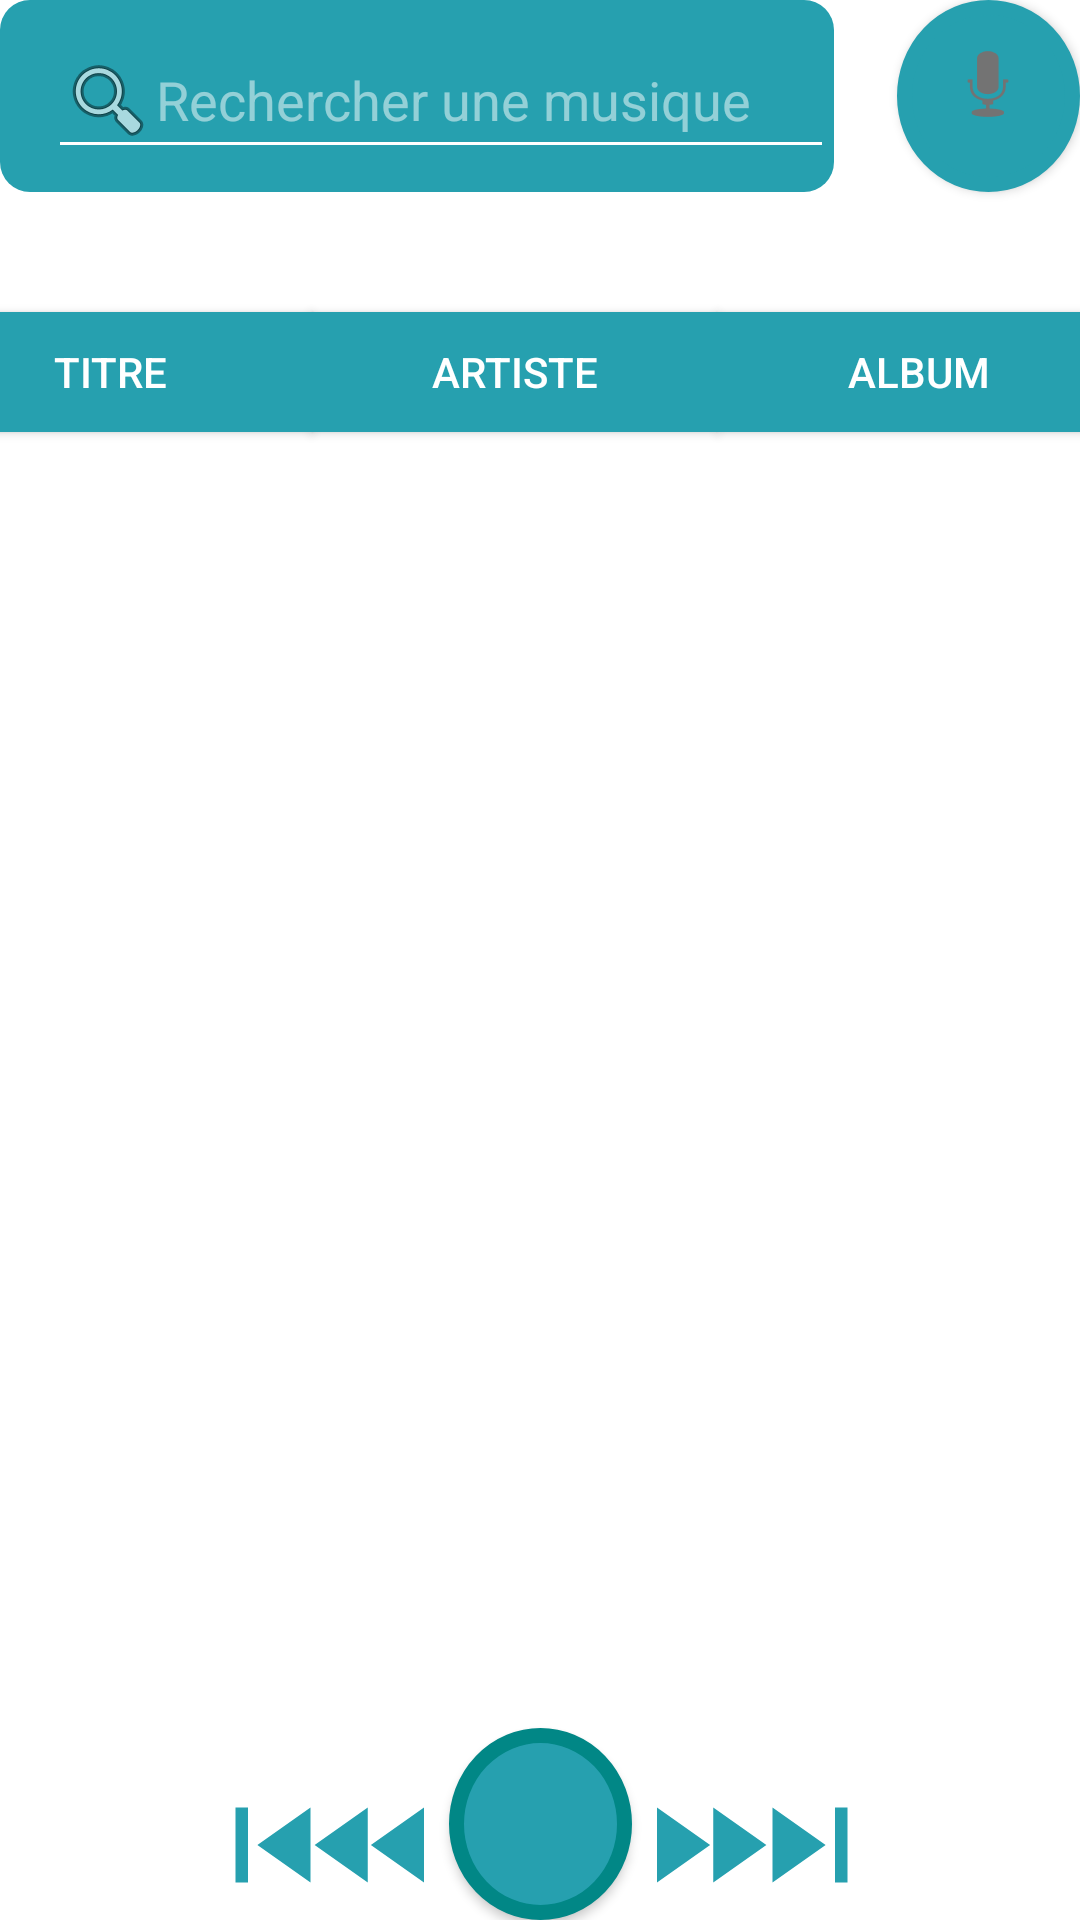

Icons on this 1080 x 1920 Android screen, each with its box as [x1, y1, x2, y2]:
avancer: [657, 1807, 766, 1883]
next: [772, 1807, 848, 1883]
previous: [235, 1807, 311, 1883]
reculer: [315, 1807, 424, 1883]
